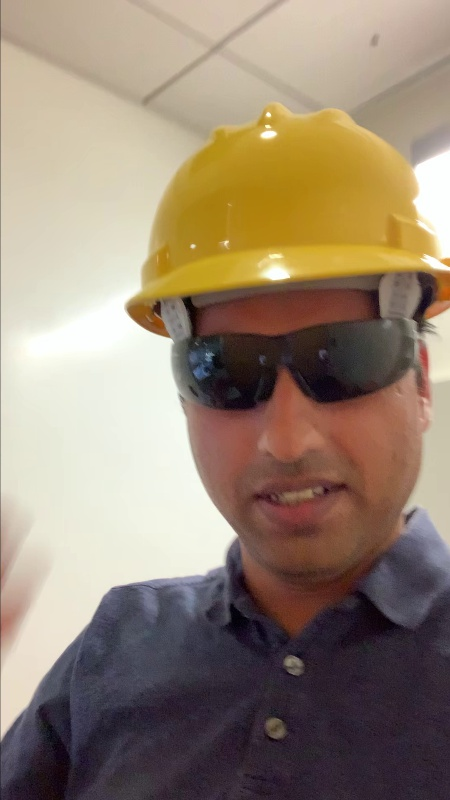glasses: (153, 309, 431, 410)
helmet: (116, 97, 450, 316)
